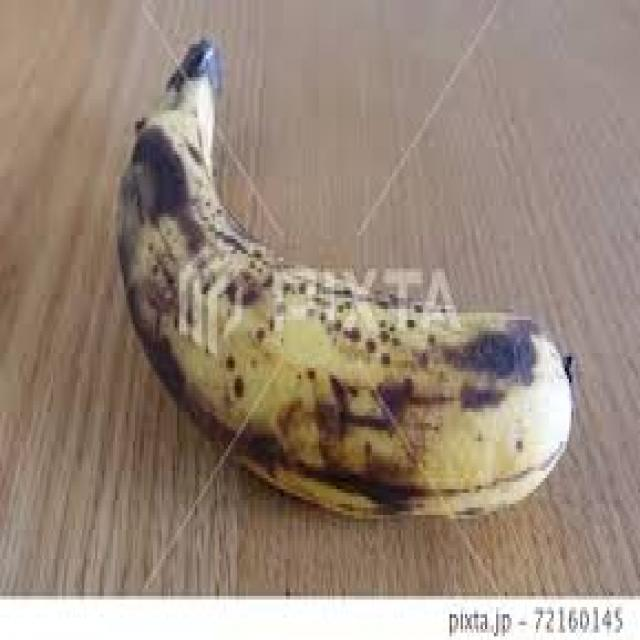organic waste: (116, 37, 572, 515)
